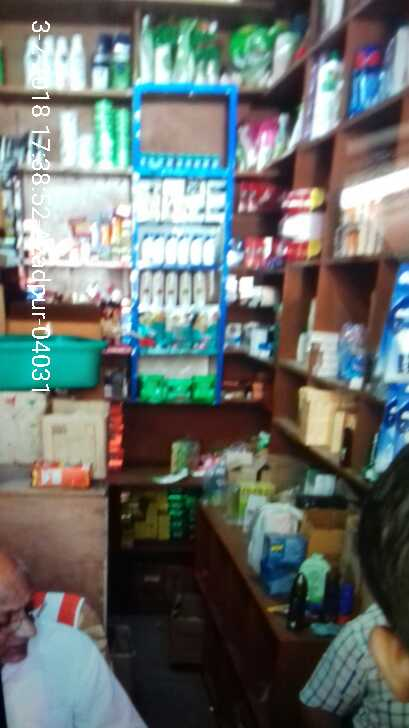vicks: (143, 147, 226, 174)
